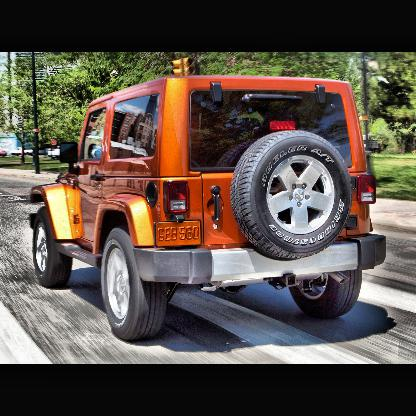Jeep Wrangler SUV 2012: (27, 72, 389, 344)
